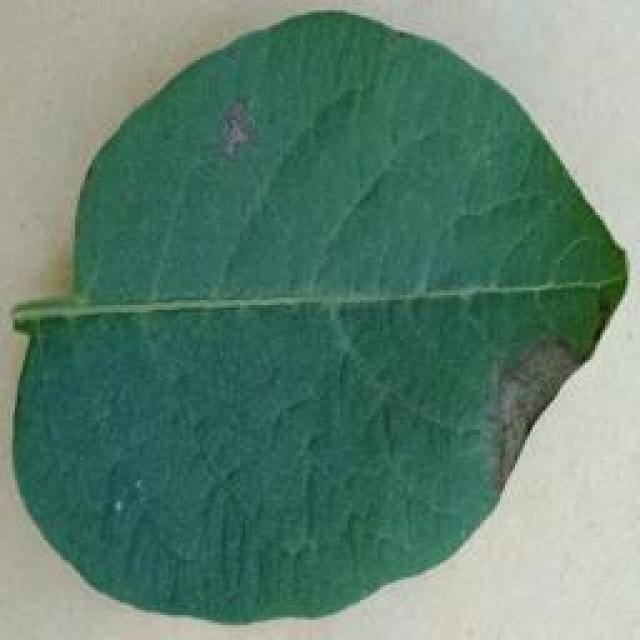Potato_Late_Blight: (12, 12, 629, 618)
